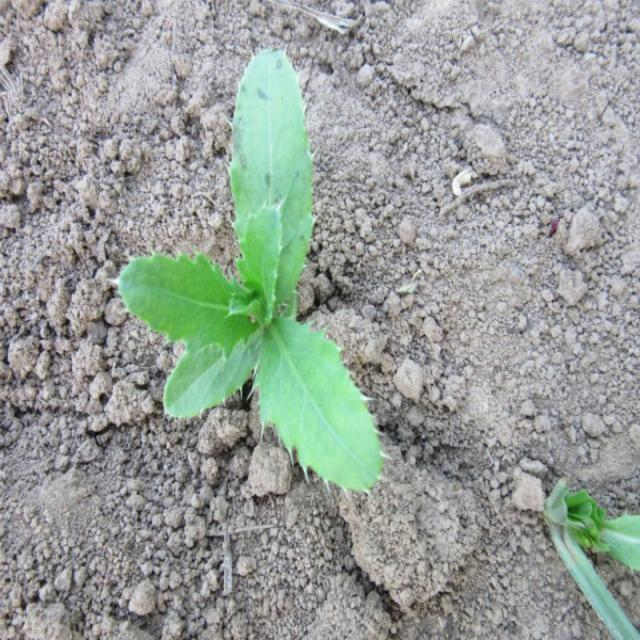cs: (118, 48, 390, 502)
